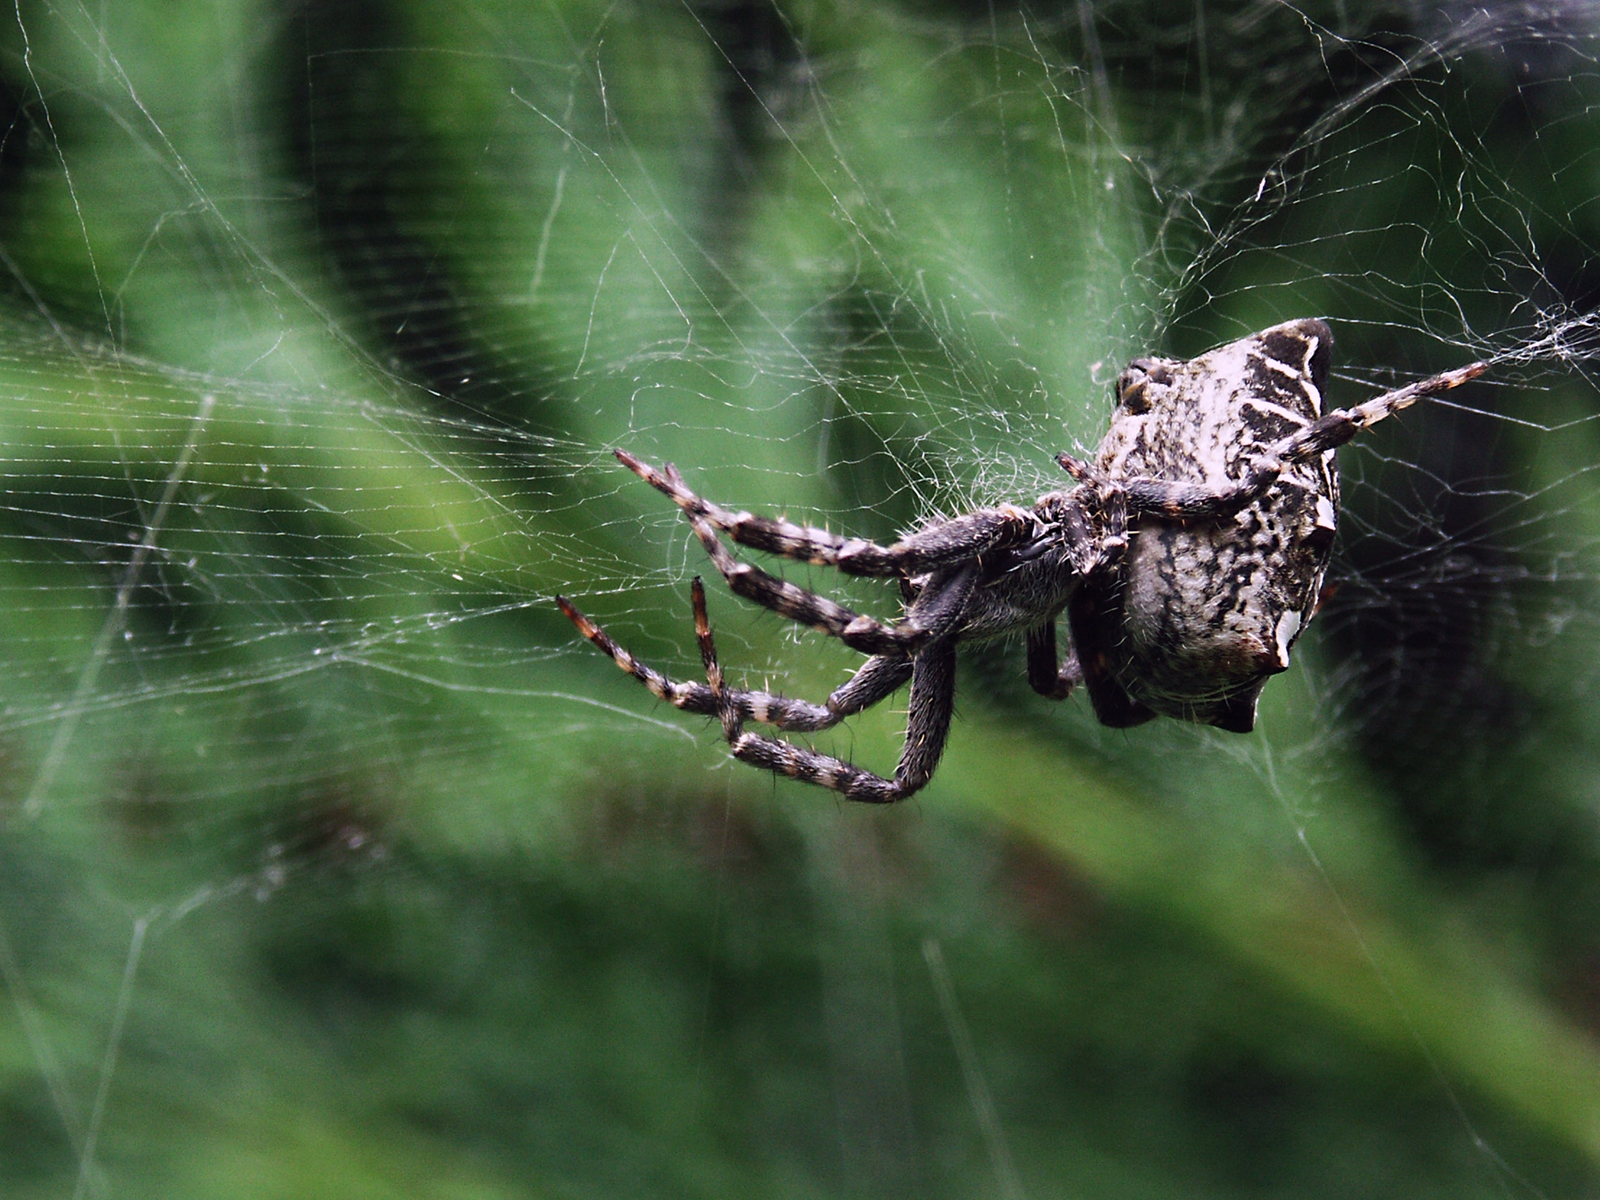spider: (534, 239, 1545, 838)
